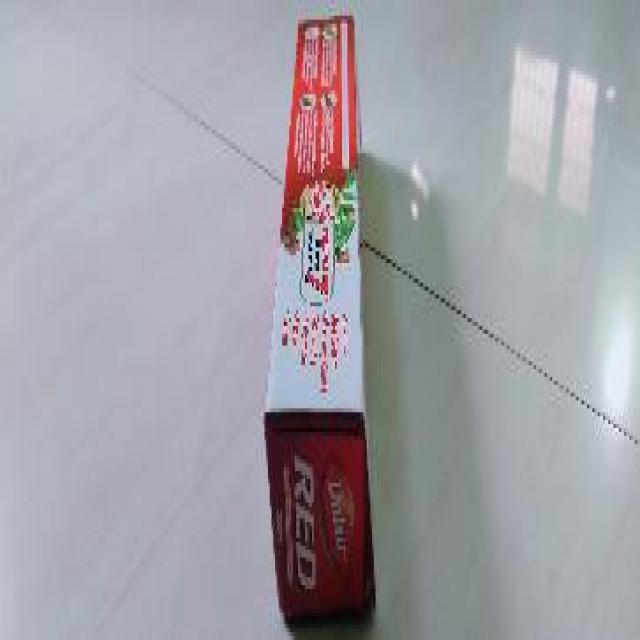tooth paste: (259, 15, 377, 640)
